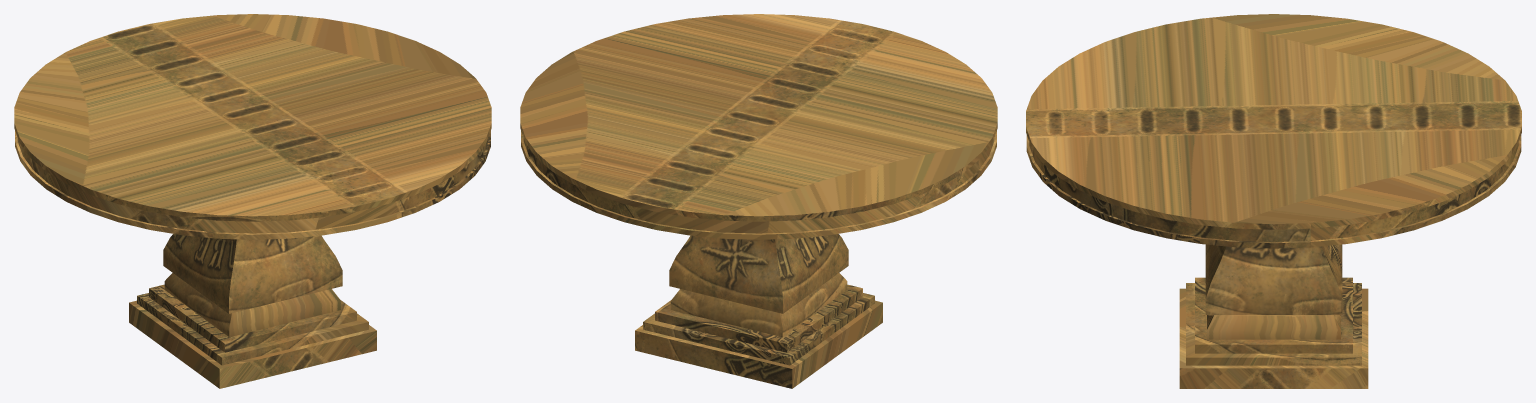
File: RoundTable.obj
3 renders of one model, left to right at view 1: azimuth 30°, elevation 25°; view 2: azimuth 150°, elevation 25°; view 3: azimuth 270°, elevation 25°, orthographic. The views are drawn at different scales.
Parts seen in each view (by area): view 1: low_Mesh; view 2: low_Mesh; view 3: low_Mesh.
Boxes of the visible parts, x1=… form: low_Mesh: x1=14, y1=14, x2=491, y2=388; low_Mesh: x1=520, y1=14, x2=997, y2=388; low_Mesh: x1=1026, y1=14, x2=1521, y2=388.
Bounding box in the file's own units: 4 × 2.04 × 3.99.
